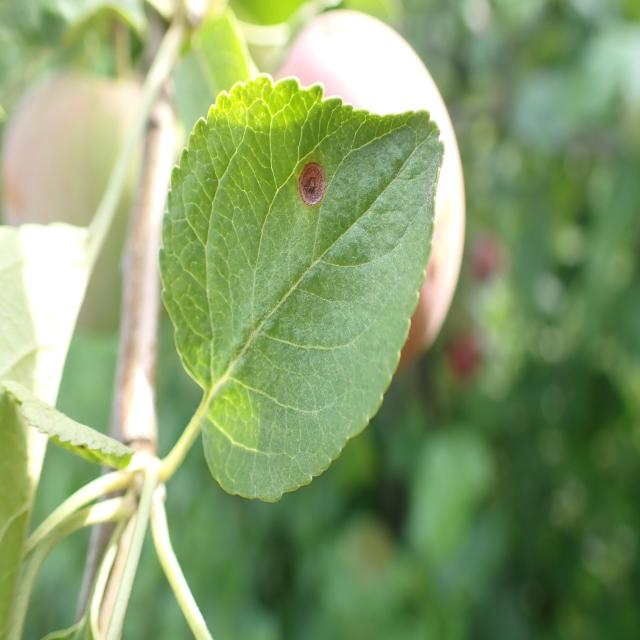frog-eye-leaf-spot: (158, 73, 446, 503)
